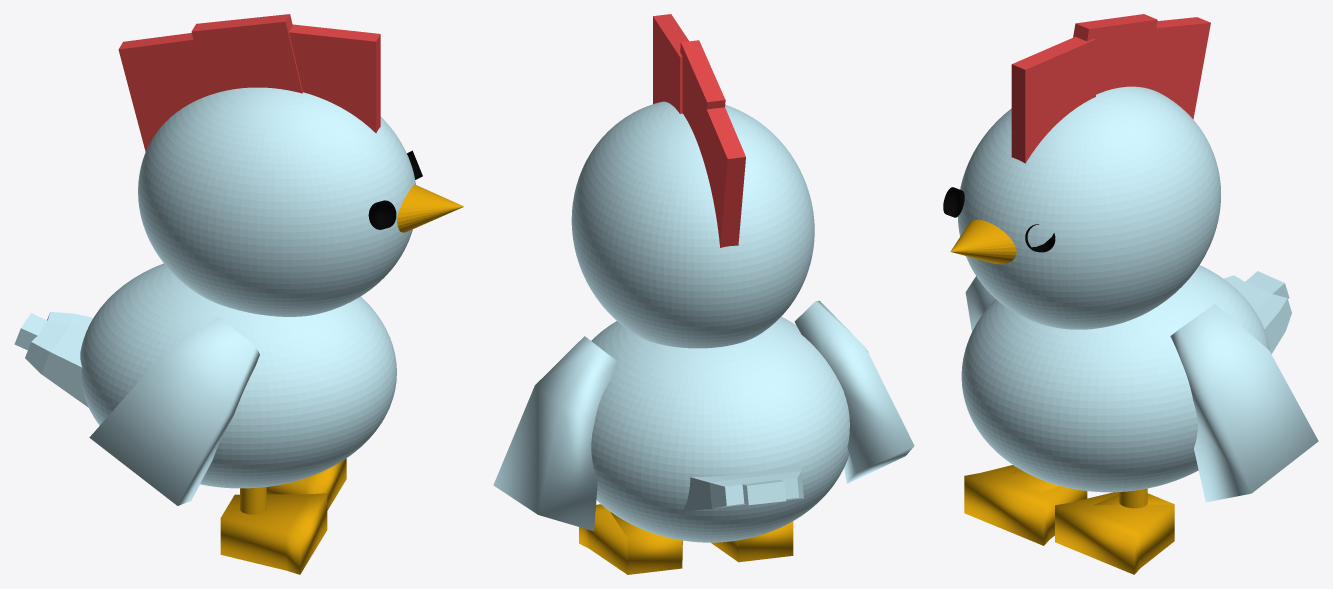
Rendered from Hen.glb.
3 renders of one model, left to right at view 1: azimuth 30°, elevation 25°; view 2: azimuth 150°, elevation 25°; view 3: azimuth 270°, elevation 25°, orthographic.
Parts seen in each view (by area): view 1: Sphere.001, Sphere.002, Cube.002, Cube.005, Cube.004, Cube, Cube.006, Cube.007, Cone, Cube.001, Cylinder, Circle; view 2: Sphere.001, Sphere.002, Cube.003, Cube.002, Cube.006, Cube.001, Cube.007, Cube.004, Cube.005, Cube; view 3: Sphere.001, Sphere.002, Cube.003, Cube.004, Cube.001, Cube, Cube.006, Cube.005, Cube.007, Cone, Cube.002, Circle (+1 smaller).
Part boxes in pixels (bbox=[...]): Sphere.001: bbox=[138, 87, 415, 316]; Sphere.002: bbox=[80, 263, 396, 488]; Cube.002: bbox=[89, 316, 259, 505]; Cube.005: bbox=[191, 14, 302, 95]; Cube.004: bbox=[289, 24, 380, 133]; Cube: bbox=[220, 493, 327, 574]; Cube.006: bbox=[118, 33, 206, 151]; Cube.007: bbox=[14, 312, 93, 407]; Cone: bbox=[397, 184, 463, 232]; Cube.001: bbox=[266, 458, 346, 510]; Cylinder: bbox=[240, 487, 266, 514]; Circle: bbox=[368, 200, 396, 229]; Sphere.001: bbox=[571, 101, 814, 348]; Sphere.002: bbox=[591, 316, 849, 542]; Cube.003: bbox=[493, 336, 618, 531]; Cube.002: bbox=[794, 300, 914, 483]; Cube.006: bbox=[697, 98, 745, 247]; Cube.001: bbox=[579, 504, 682, 574]; Cube.007: bbox=[683, 464, 803, 510]; Cube.004: bbox=[653, 14, 688, 113]; Cube.005: bbox=[680, 40, 725, 142]; Cube: bbox=[711, 521, 793, 562]; Sphere.001: bbox=[958, 86, 1220, 329]; Sphere.002: bbox=[961, 265, 1270, 492]; Cube.003: bbox=[1170, 304, 1318, 502]; Cube.004: bbox=[1011, 36, 1095, 163]; Cube.001: bbox=[1055, 492, 1174, 574]; Cube: bbox=[964, 465, 1087, 545]; Cube.006: bbox=[1132, 17, 1210, 119]; Cube.005: bbox=[1073, 14, 1157, 94]; Cube.007: bbox=[1223, 271, 1291, 353]; Cone: bbox=[950, 219, 1016, 264]; Cube.002: bbox=[965, 276, 995, 331]; Circle: bbox=[943, 187, 964, 217].
Size of the model in its own units: 2.39 by 3.54 by 2.36.
